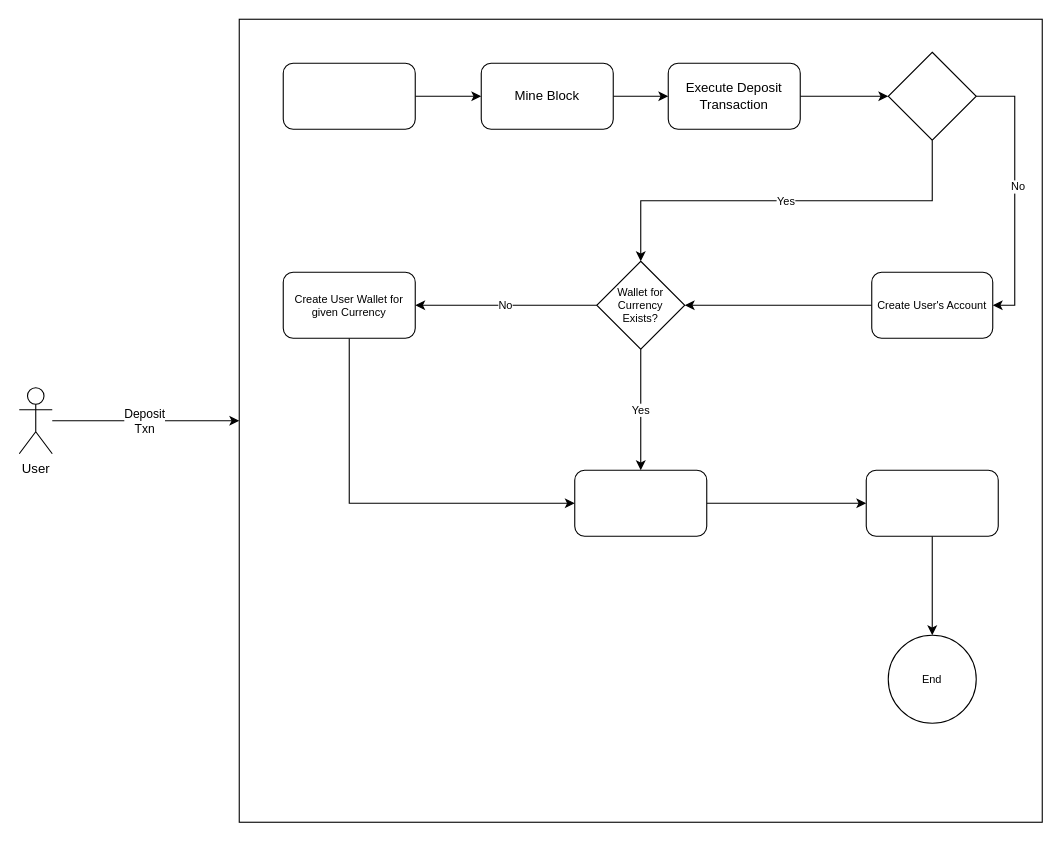
The diagram is 1062 pixels wide and 842 high, and some of its shapes have lost their labels. Each missing label, with the centre of its shape:
"Add deposited amount to the wallet" goes at point (640, 502).
"Emit the Success Event to Events table" goes at point (931, 502).
"Register Transaction in Transaction Pool" goes at point (348, 95).
"User Account Exists?" goes at point (931, 95).
